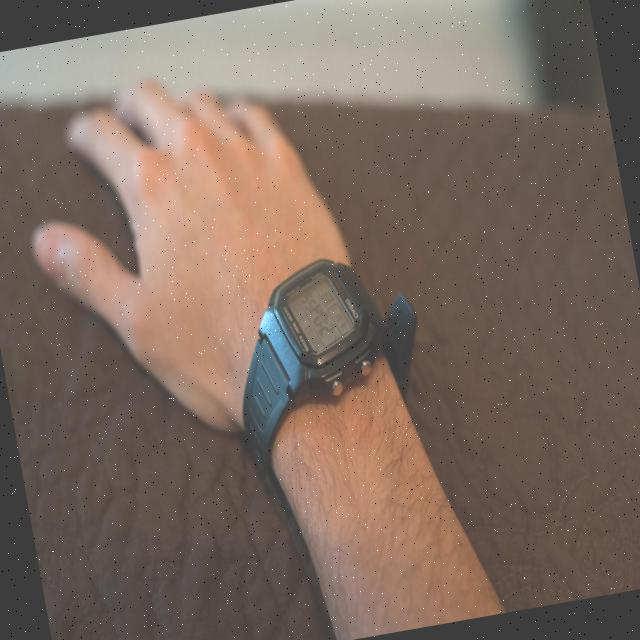Wrist watch: (216, 245, 442, 482)
